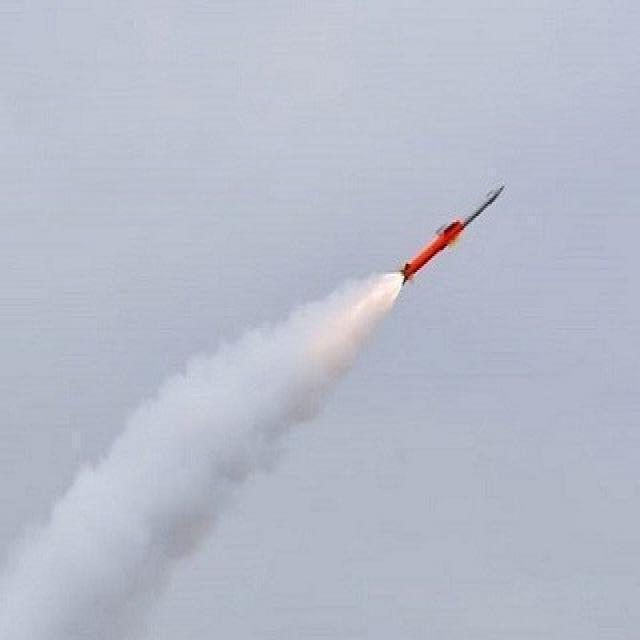missile: (400, 177, 511, 280)
